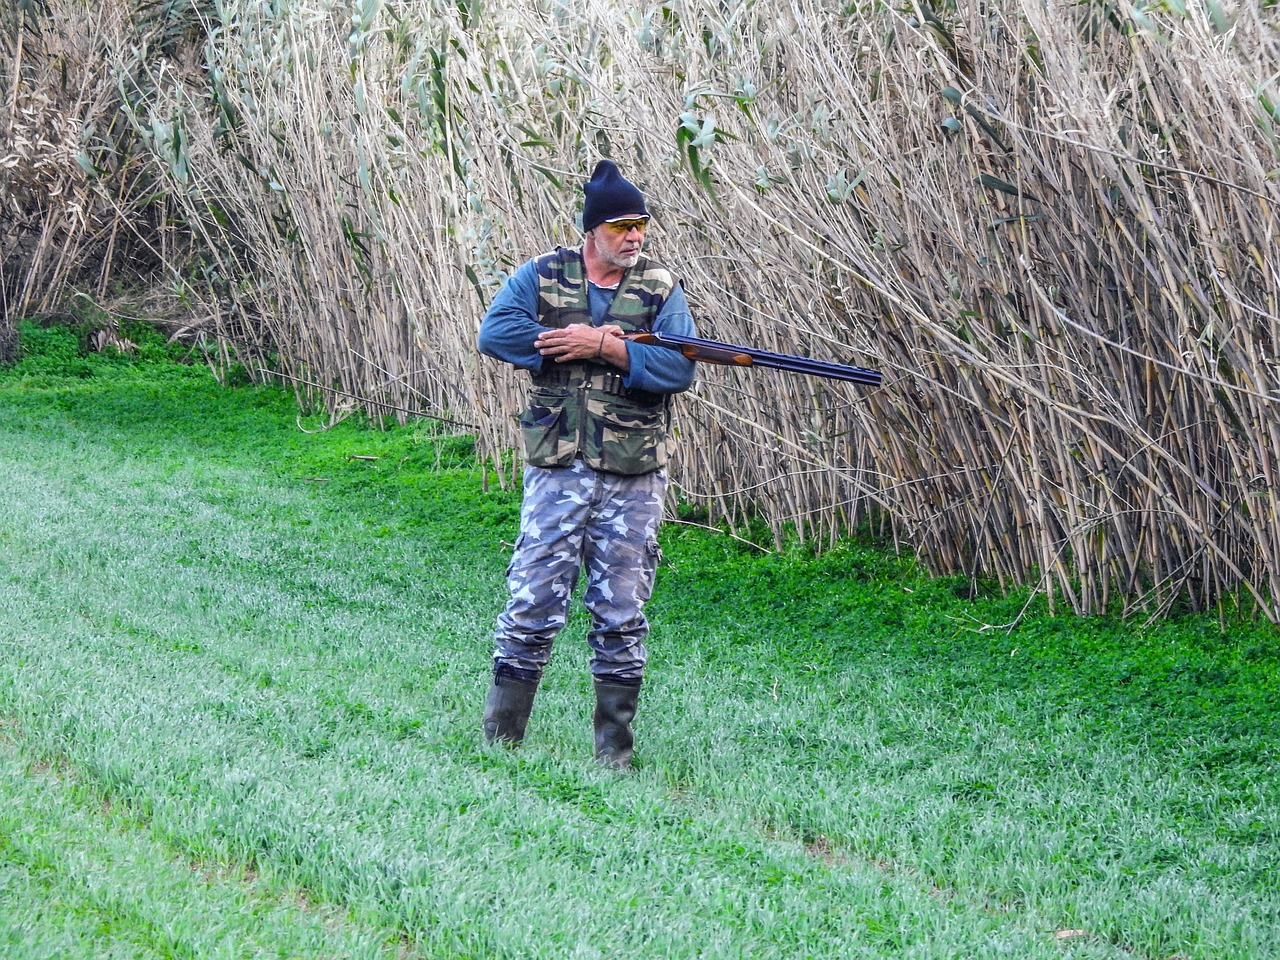gun: (608, 324, 888, 392)
